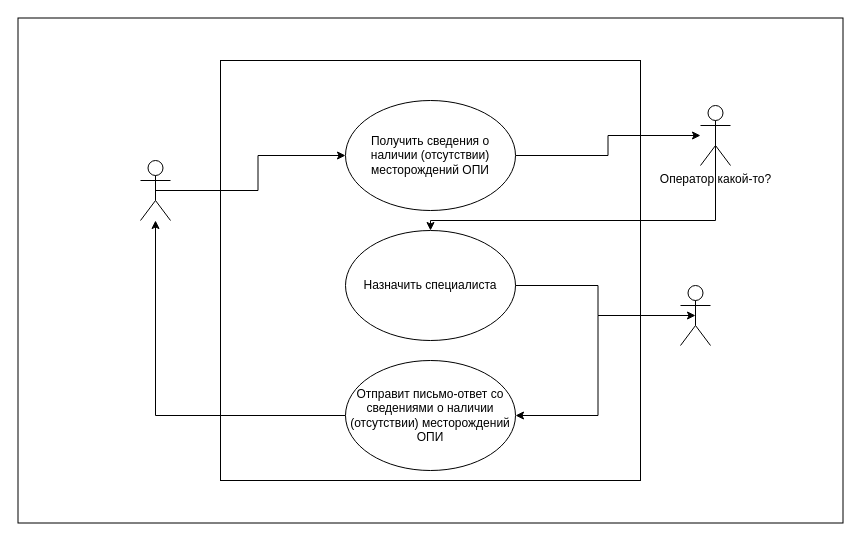
This 860x540 diagram has some shape labels left out. The centre of each missing label's shape, as x and y in pixels:
"Представитель юридического лица" belongs at (x=155, y=190).
"Специалист" belongs at (x=695, y=315).
